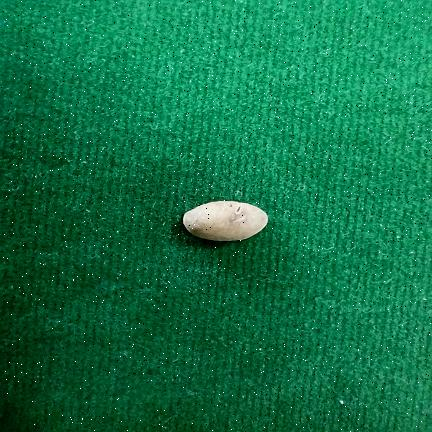shell: (183, 201, 267, 241)
